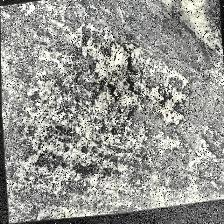pothole: (90, 42, 146, 132), (146, 83, 190, 133)
